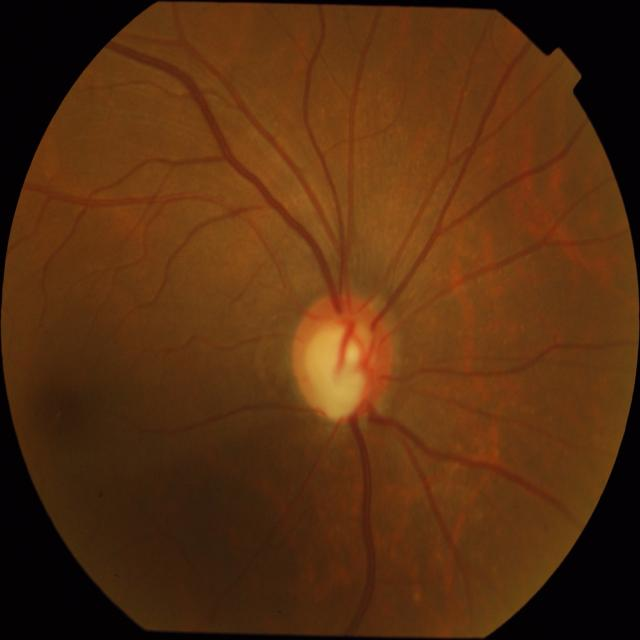OC: (306, 327, 372, 420)
OD: (290, 294, 396, 422)
